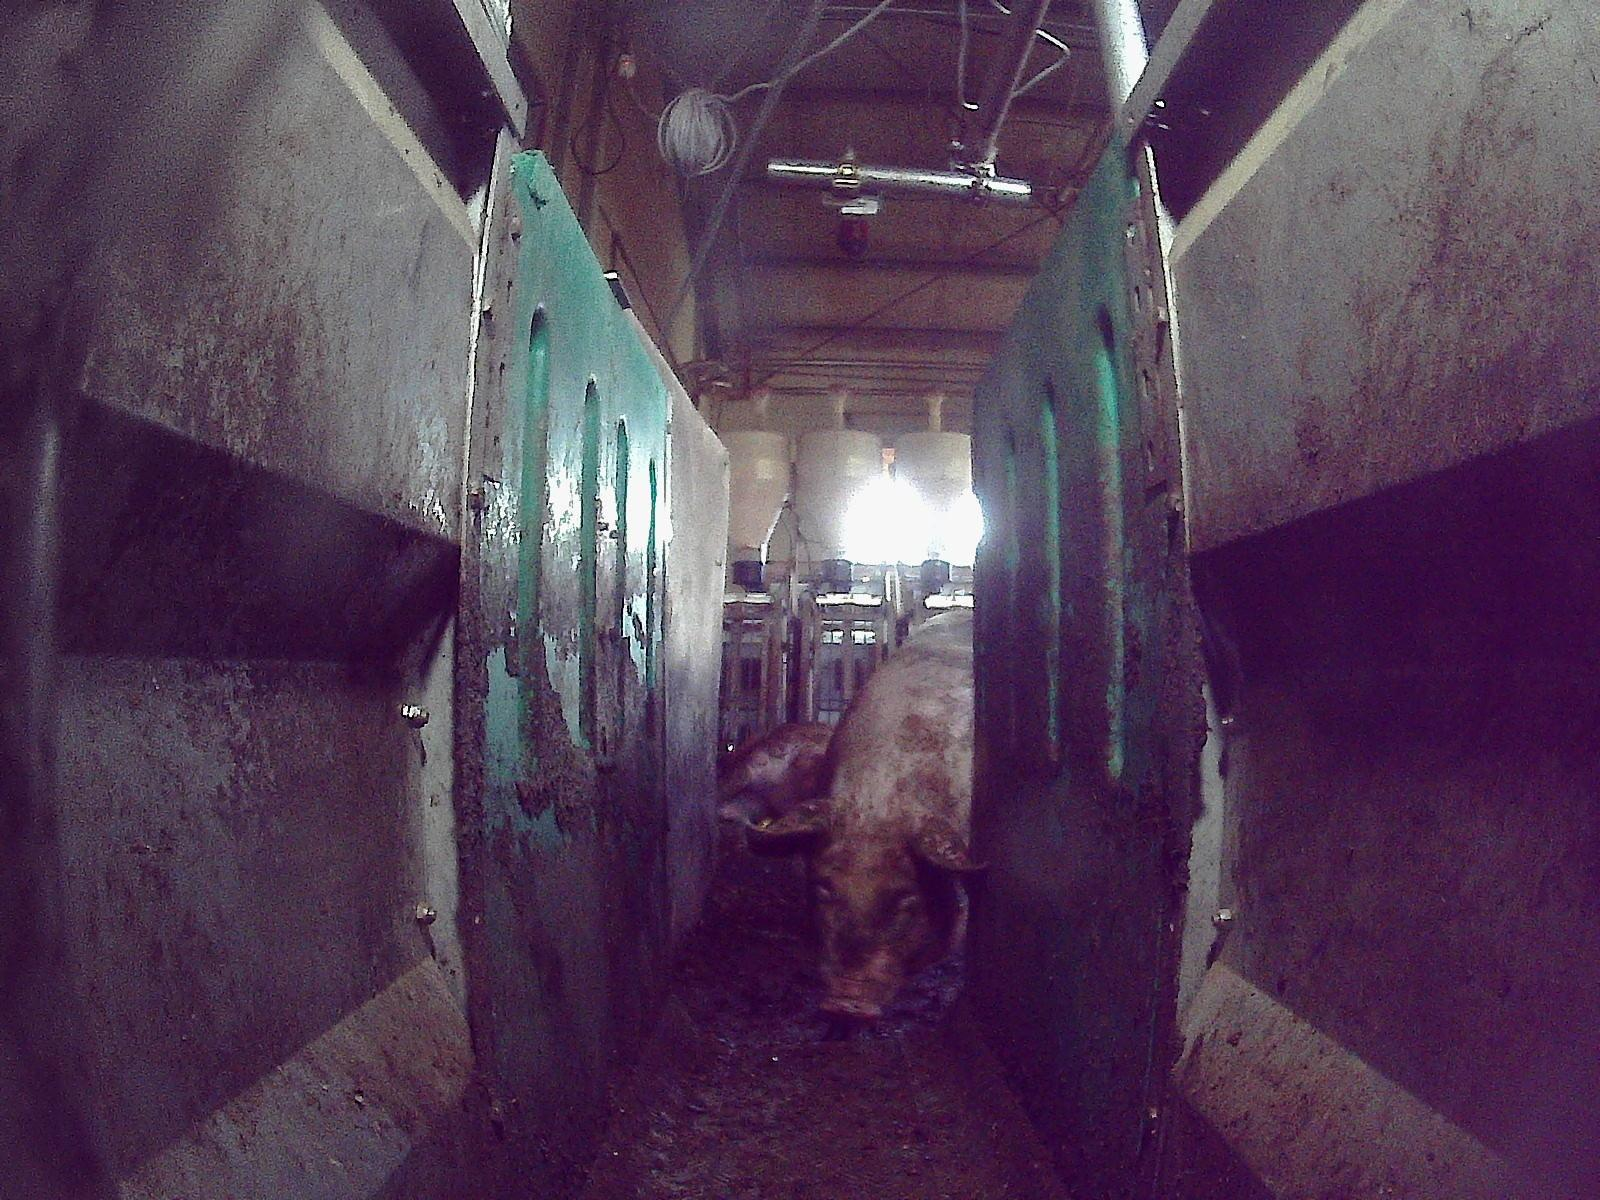Face: (800, 802, 954, 1019)
